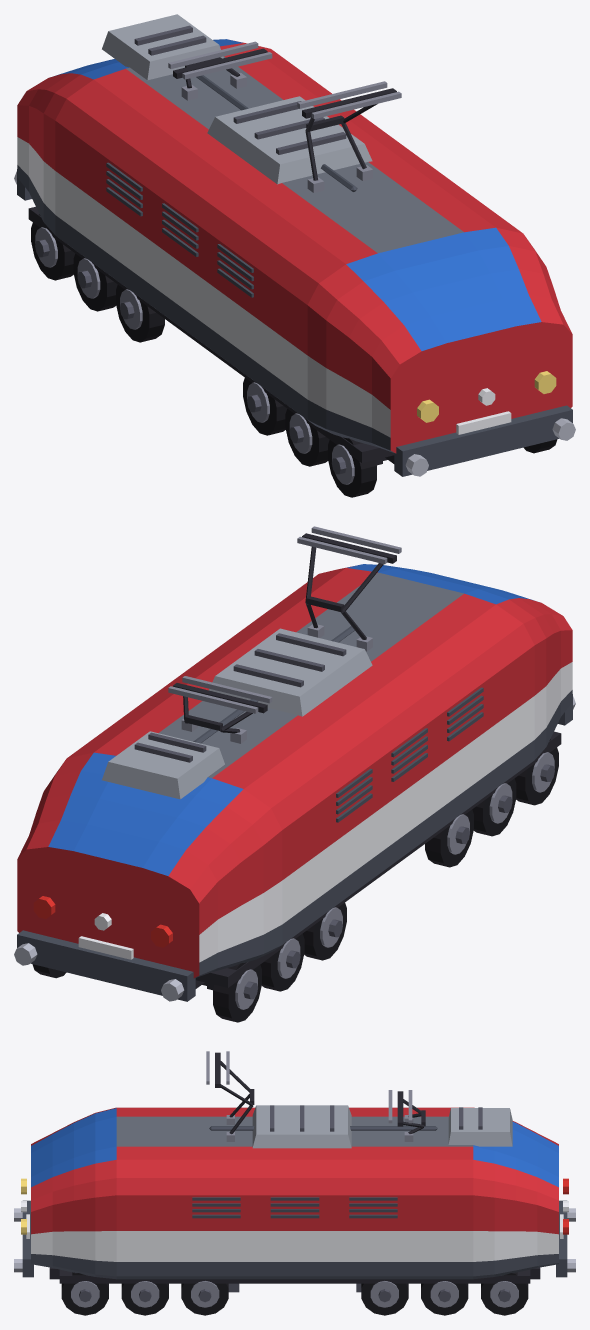
The model's file is electric-train.glb.
3 views of the same model, one above another, from view 1: azimuth 30°, elevation 25°; view 2: azimuth 150°, elevation 25°; view 3: azimuth 270°, elevation 25° (orthographic). The views are drawn at different scales.
Visible parts, largest first — view 1: ElectricTrain; view 2: ElectricTrain; view 3: ElectricTrain.
Part boxes in pixels (box(x1,y1,x2,y2)): ElectricTrain: box(14, 14, 575, 497); ElectricTrain: box(14, 526, 575, 1022); ElectricTrain: box(14, 1051, 575, 1315).
Size of the model in its own units: 1.33 by 1.66 by 3.94.
1 material, 1 textured.
